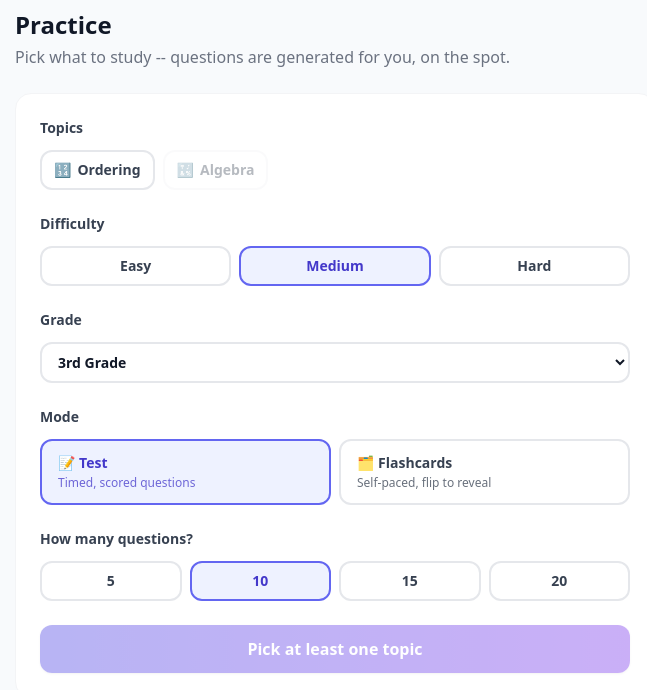
it: hides the question count in flashcard mode
expect the button "🔢 ordering" is shown: met, box [40,150,154,190]
expect the button named "10 questions" is shown: met, box [190,561,331,601]
Click the button "🗂️ Flashcards Self-paced, flip to reveal". click: (484, 472)
box: [339,439,630,505]
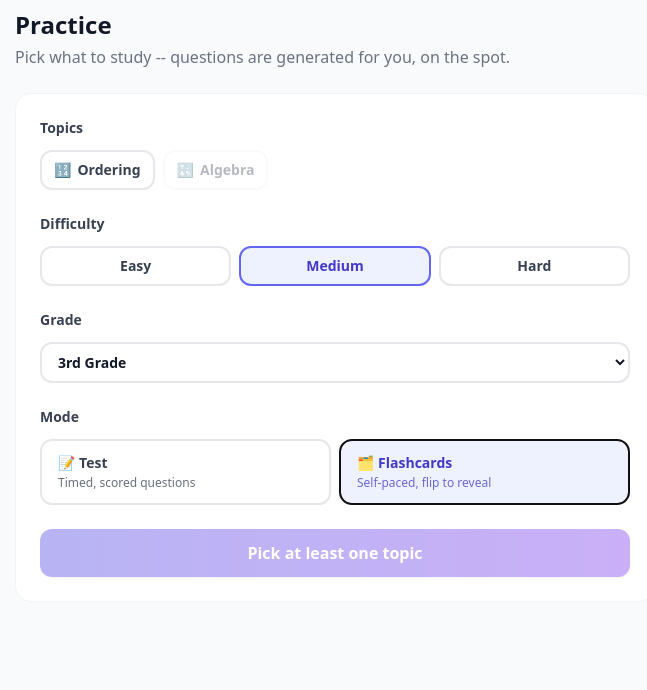
expect the heading "How many questions" is gone: met
